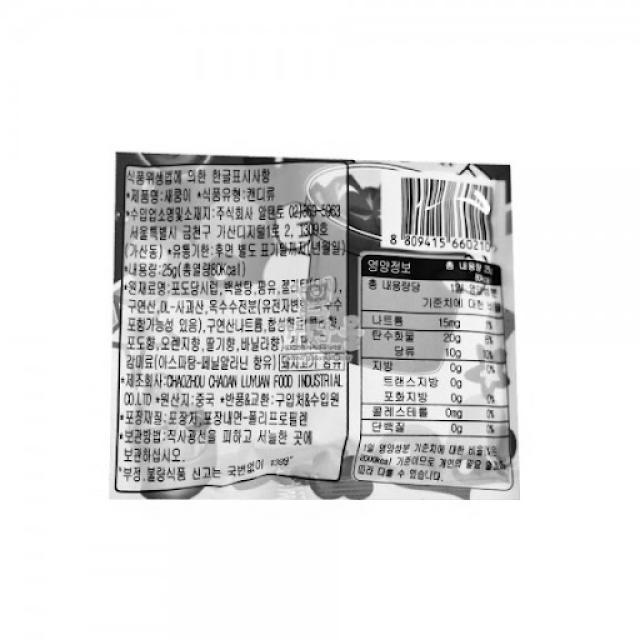Nutrition Label: (346, 238, 523, 510)
